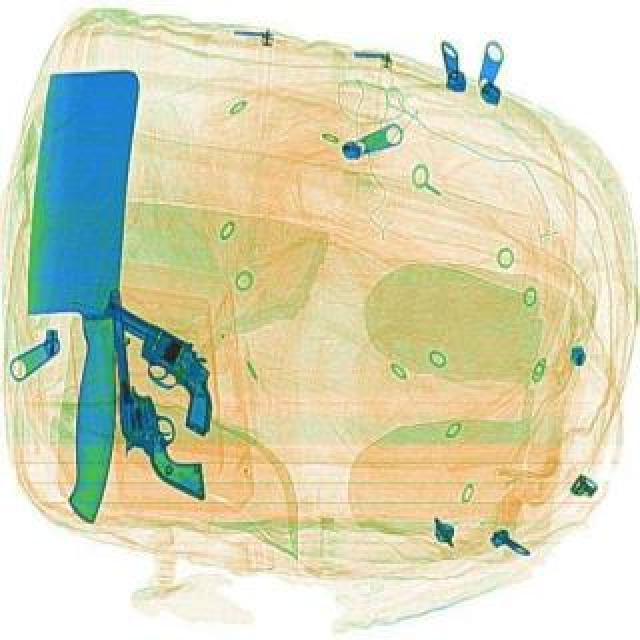gun: (68, 292, 248, 438), (108, 282, 202, 500)
knife: (26, 68, 138, 522)
